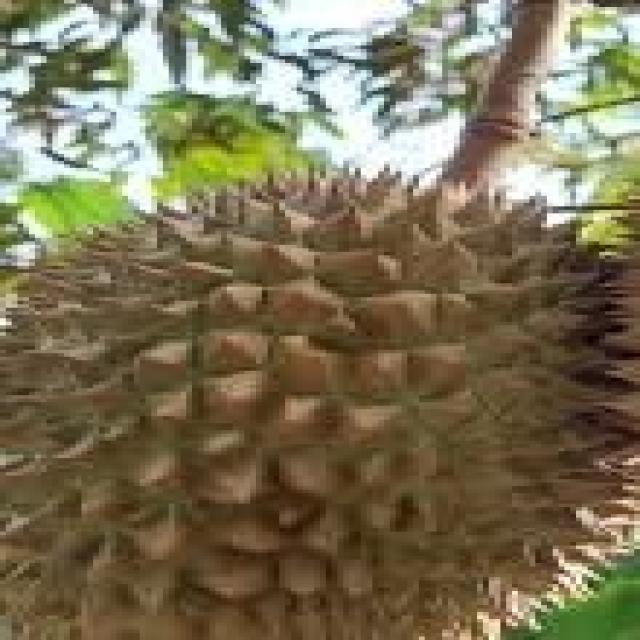mature: (4, 172, 636, 639)
